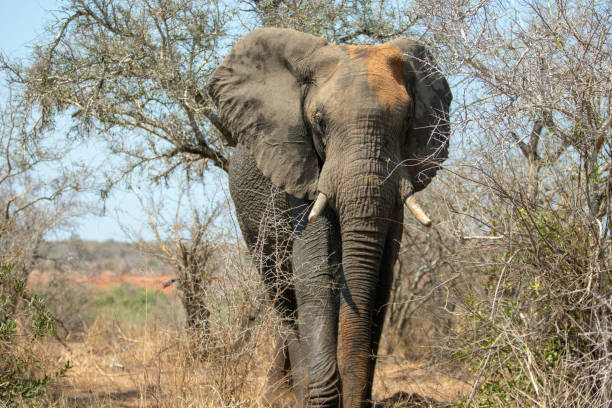africanelephant: (283, 37, 439, 272)
